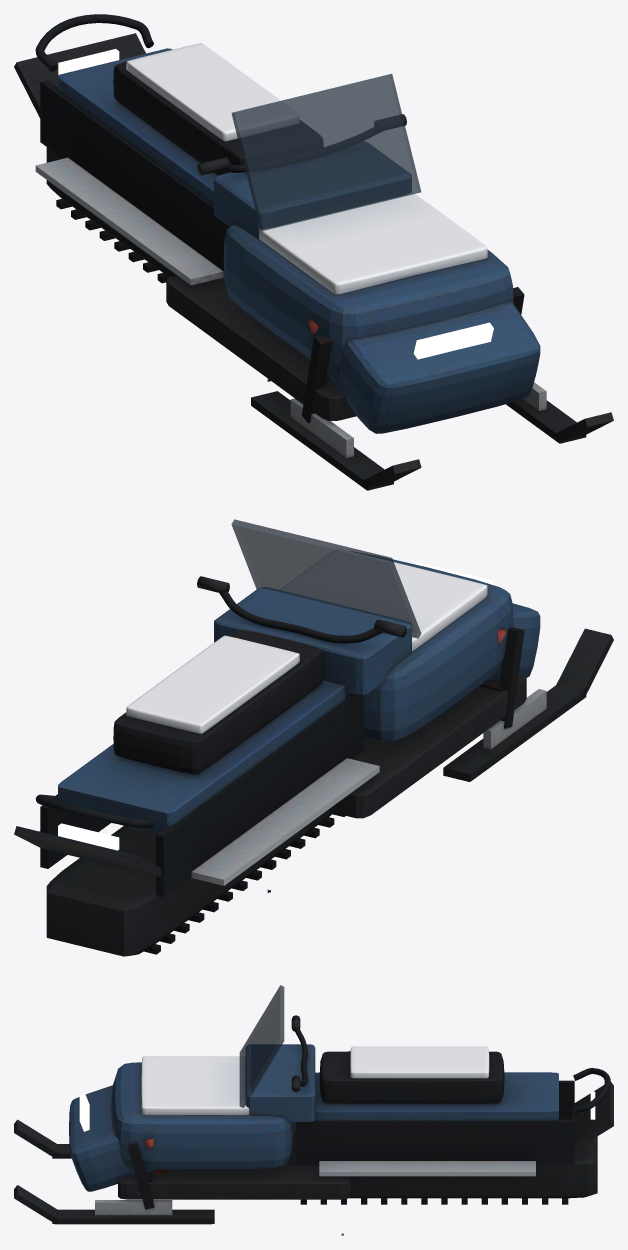
File: snowmobile.glb
The picture shows the model from 3 angles, top to bottom: view 1: azimuth 30°, elevation 25°; view 2: azimuth 150°, elevation 25°; view 3: azimuth 270°, elevation 25°; orthographic projection. The views are drawn at different scales.
Visible parts, largest first — view 1: snowmobile, snowmobile_snow, snowmobile_glass, snowmobile_lamp; view 2: snowmobile, snowmobile_snow, snowmobile_glass, snowmobile_lamp; view 3: snowmobile, snowmobile_snow, snowmobile_glass, snowmobile_lamp.
Part boxes in pixels (<box>): snowmobile: <box>14,14,613,490</box>; snowmobile_snow: <box>126,43,487,294</box>; snowmobile_glass: <box>231,73,421,231</box>; snowmobile_lamp: <box>58,49,493,359</box>; snowmobile: <box>14,551,613,956</box>; snowmobile_snow: <box>126,549,487,733</box>; snowmobile_glass: <box>231,519,421,638</box>; snowmobile_lamp: <box>58,563,493,850</box>; snowmobile: <box>14,1015,613,1235</box>; snowmobile_snow: <box>141,1046,489,1115</box>; snowmobile_glass: <box>239,985,284,1107</box>; snowmobile_lamp: <box>79,1091,595,1131</box>.
Bounding box in the file's own units: 1.14 × 1.59 × 3.88.
Materials: 4 (1 with a texture image).
